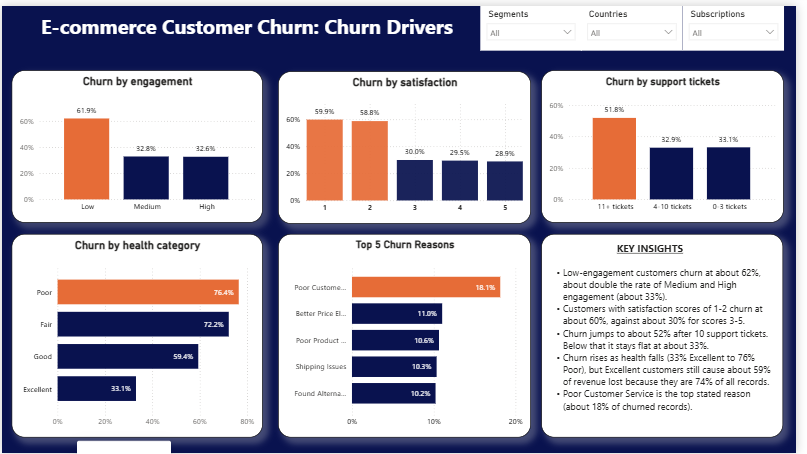

The page's visual inventory and layout, read from the dashboard file:
{"tool":"powerbi","page":{"name":"Churn Drivers","canvas":[1280,720],"ordinal":1},"visuals":[{"type":"textbox","box":[0,4.7,780.2,56.2],"z":0},{"type":"slicer","fields":{"Values":["Customers.customer_segment"]},"box":[770,0,163.3,71.7],"z":1000},{"type":"slicer","fields":{"Values":["Customers.customer_country"]},"box":[933.3,0,163.8,71.8],"z":2000},{"type":"slicer","fields":{"Values":["Customers.subscription_type"]},"box":[1096.7,0,163.8,71.8],"z":3000},{"type":"clusteredColumnChart","title":"Churn by engagement","fields":{"Y":["_Measures.Churn Rate %"],"Category":["Metrics.engagement_level"]},"box":[15.9,103.1,404.5,245.9],"z":4000},{"type":"clusteredColumnChart","title":"Churn by satisfaction","fields":{"Category":["Metrics.satisfaction_score"],"Y":["_Measures.Churn Rate %"]},"box":[444.2,104.7,407.7,245.9],"z":5000},{"type":"clusteredColumnChart","title":"Churn by support tickets","fields":{"Category":["Metrics.Tickets Group"],"Y":["_Measures.Churn Rate %"]},"box":[869.3,103.1,390.2,245.9],"z":6000},{"type":"clusteredBarChart","title":"Churn by health category","fields":{"Category":["Metrics.customer_health_category"],"Y":["_Measures.Churn Rate %"]},"box":[15.9,368,404.5,328.4],"z":7000},{"type":"clusteredBarChart","title":"Top 5 Churn Reasons","fields":{"Y":["_Measures.Reason Share %"],"Category":["Events.churn_reason"]},"box":[444.2,368,407.7,328.4],"z":8000},{"type":"textbox","box":[869,368,390,328],"z":9000}]}

Visuals, with their boxes in screenshot pixels (x1, y1, x2, y2), scaled from the page's 1280x720 canvas onto the 807x454 screenshot:
textbox: 0/3/492/38
slicer - Customers.customer_segment: 485/0/588/45
slicer - Customers.customer_country: 588/0/692/45
slicer - Customers.subscription_type: 691/0/795/45
"Churn by engagement" clusteredColumnChart: 10/65/265/220
"Churn by satisfaction" clusteredColumnChart: 280/66/537/221
"Churn by support tickets" clusteredColumnChart: 548/65/794/220
"Churn by health category" clusteredBarChart: 10/232/265/439
"Top 5 Churn Reasons" clusteredBarChart: 280/232/537/439
textbox: 548/232/794/439
